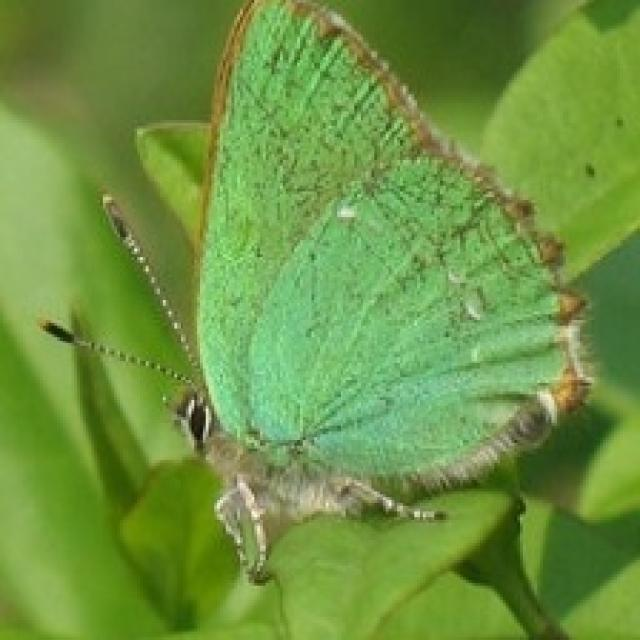butterfly: (34, 0, 594, 586)
